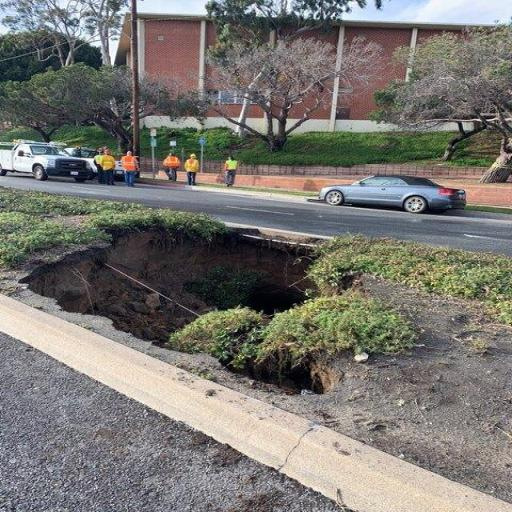Concentric_Crack: (21, 217, 361, 346), (220, 339, 345, 392)
